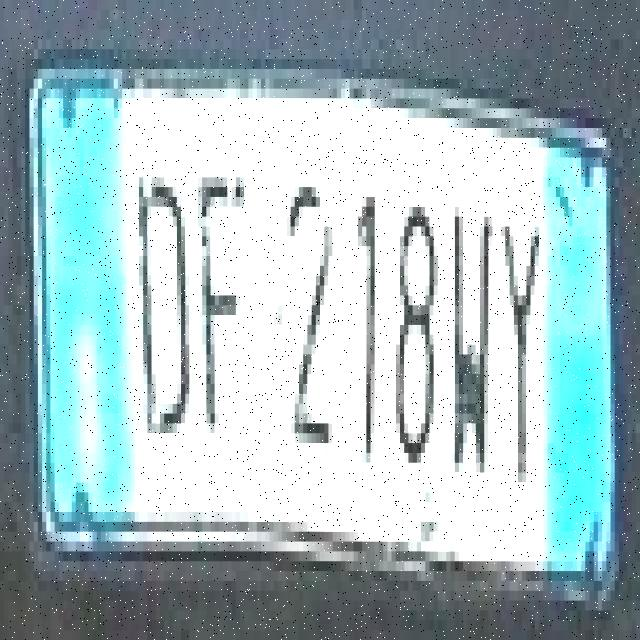licenseplate: (18, 27, 626, 626)
